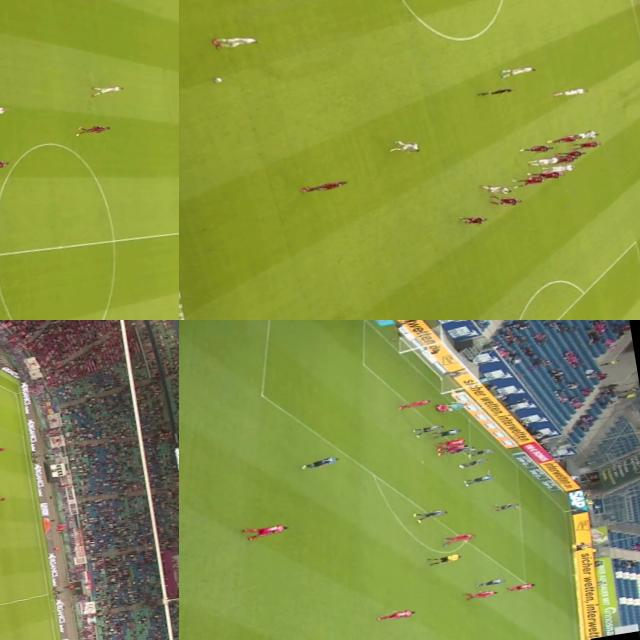ball: (208, 76, 226, 86)
player: (298, 177, 351, 197), (243, 521, 291, 542), (213, 33, 262, 51), (375, 606, 416, 624), (388, 139, 427, 157), (299, 454, 338, 472), (500, 64, 540, 80), (69, 124, 114, 138), (412, 508, 451, 524), (394, 397, 432, 413), (481, 181, 514, 198), (463, 470, 496, 487), (528, 169, 564, 184), (410, 423, 444, 438), (540, 163, 579, 176), (552, 85, 591, 98), (464, 588, 500, 602), (443, 532, 478, 546), (94, 82, 126, 96), (530, 154, 562, 168), (567, 130, 599, 144), (570, 139, 604, 152), (550, 134, 584, 147), (433, 425, 462, 440), (486, 196, 522, 208), (438, 442, 468, 456), (492, 500, 521, 514), (554, 150, 587, 162), (478, 576, 505, 590), (520, 144, 556, 154), (508, 580, 538, 592), (460, 458, 490, 470), (446, 444, 476, 456), (438, 436, 468, 448), (444, 399, 471, 412), (460, 215, 490, 226), (514, 176, 544, 187), (467, 447, 494, 458), (548, 155, 576, 165), (434, 401, 452, 415), (0, 105, 13, 119), (0, 158, 10, 174), (0, 444, 8, 453), (0, 496, 7, 505)
